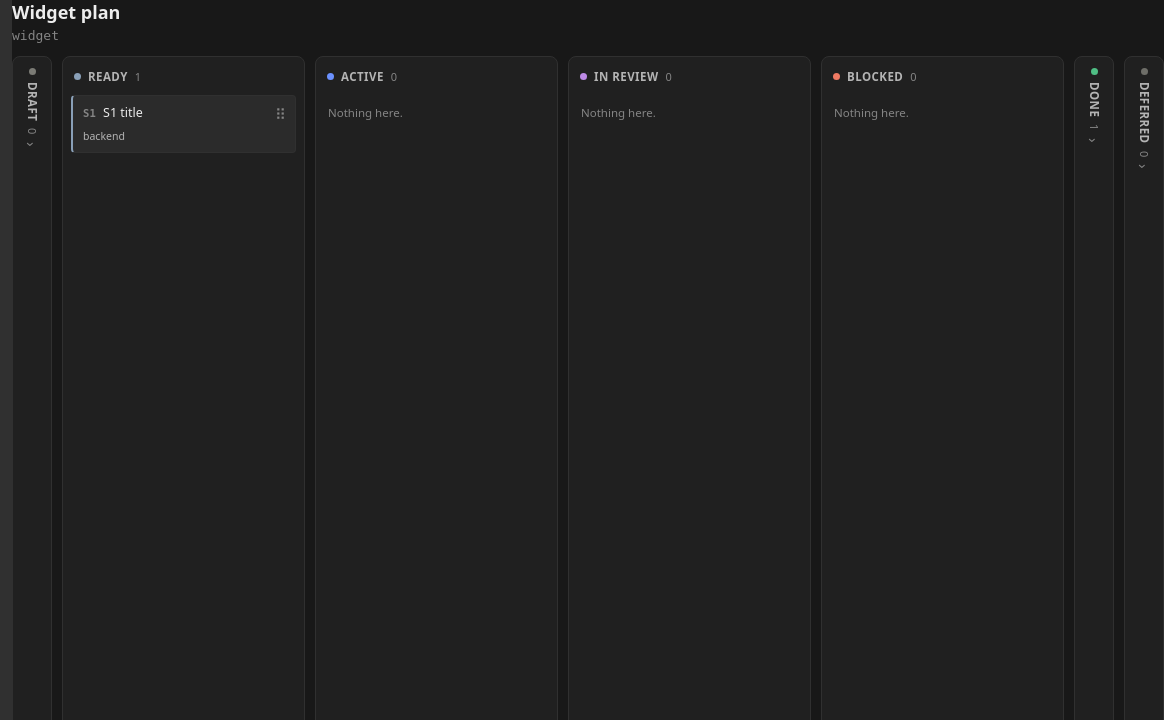
Test: shows every status and folds the usually empty columns
Check: the heading "Widget plan" is shown, box 12,0 -> 120,24
Check: the text "S1 title" is shown, box 103,104 -> 143,122
Click the button named "Expand Done" at (1094, 140), box 1080,138 -> 1108,142
(page scrolled)
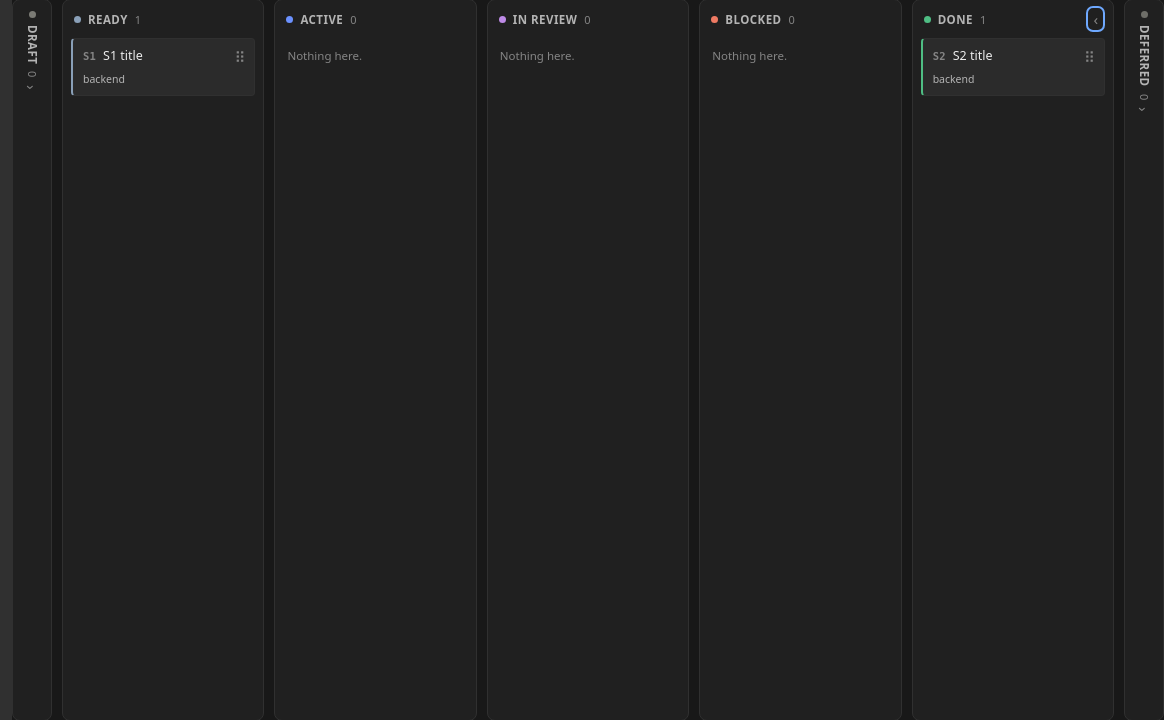
Check: the text "S2 title" is shown, box 953,47 -> 992,64
